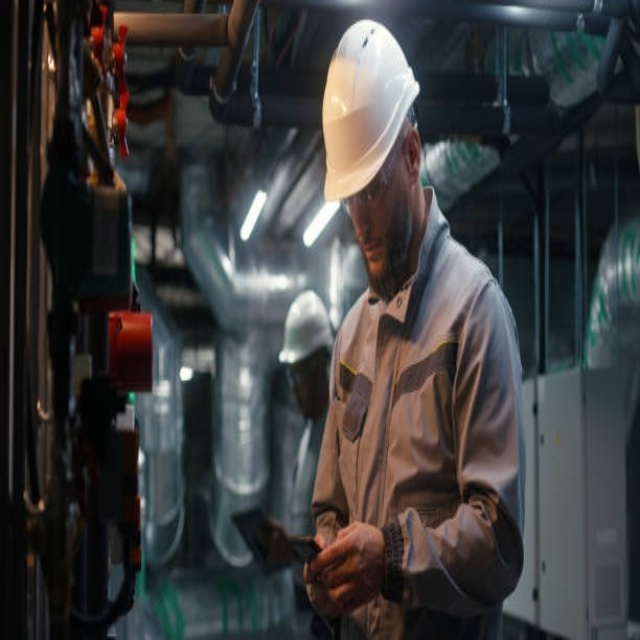Gafas: (341, 123, 409, 220)
Sin_guantes: (299, 513, 385, 612)
Sin_mascara: (359, 234, 389, 281)
